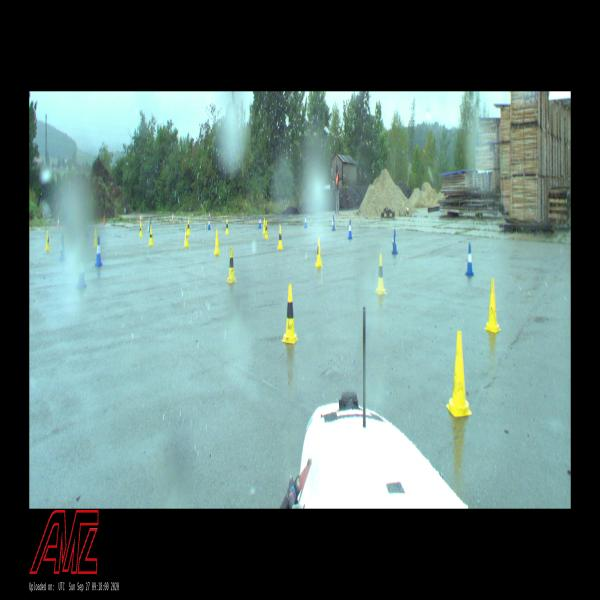blue_cone: (77, 249, 86, 290), (466, 243, 473, 276), (95, 236, 102, 266), (60, 233, 66, 261), (392, 230, 398, 254), (348, 219, 352, 239), (303, 213, 307, 228), (258, 216, 262, 228), (332, 216, 335, 230), (208, 219, 211, 230), (148, 219, 150, 232)
orange_cone: (103, 215, 106, 225), (172, 212, 174, 220), (140, 214, 142, 222), (209, 211, 210, 219), (58, 218, 59, 226)
yellow_cone: (449, 332, 469, 416), (284, 284, 296, 342), (487, 278, 499, 332), (376, 254, 385, 294), (227, 247, 236, 282), (316, 237, 322, 267), (214, 230, 220, 254), (44, 231, 50, 251), (278, 226, 283, 249), (184, 225, 189, 246), (94, 228, 98, 248), (264, 220, 268, 239), (149, 226, 153, 245), (225, 219, 229, 234), (188, 220, 190, 235), (263, 218, 265, 233), (140, 223, 142, 236)
